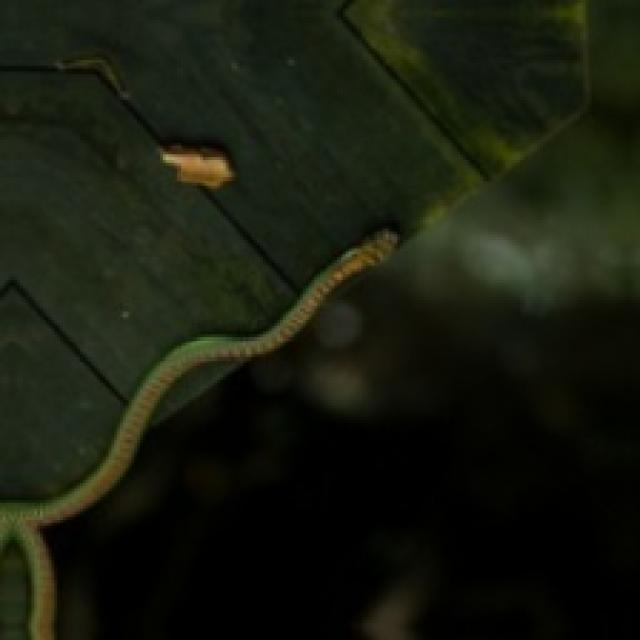paradise tree snake: (0, 229, 397, 637)
